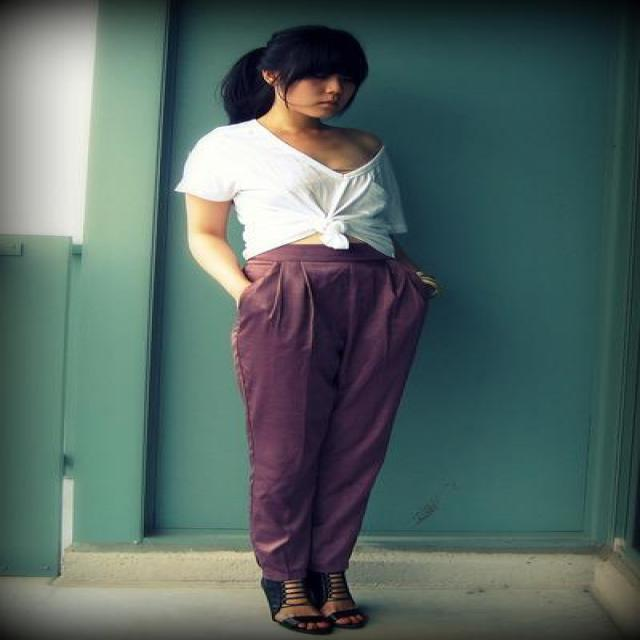pants: (224, 234, 434, 575)
shirt: (176, 120, 424, 258)
shoe: (261, 566, 374, 635)
